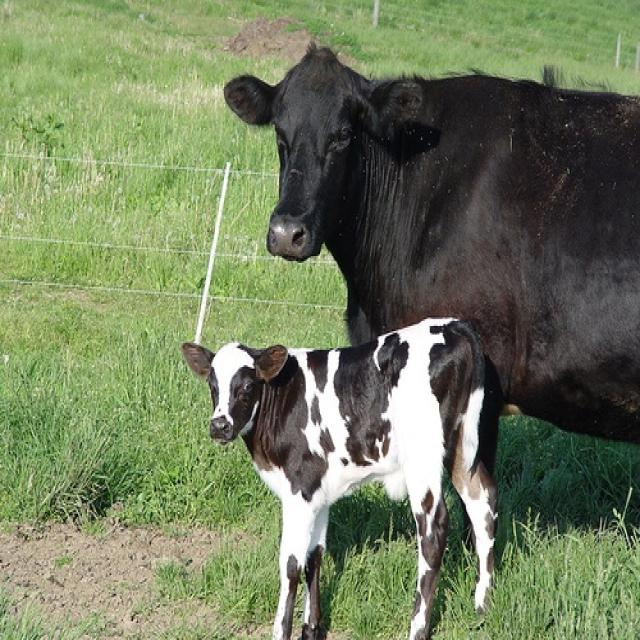cow: (222, 41, 638, 543), (182, 314, 499, 638)
